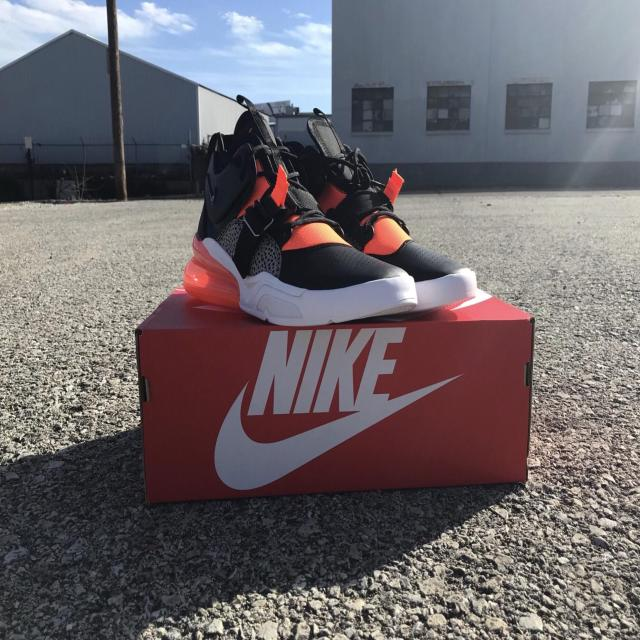shoe: (174, 101, 419, 336), (279, 105, 491, 312)
